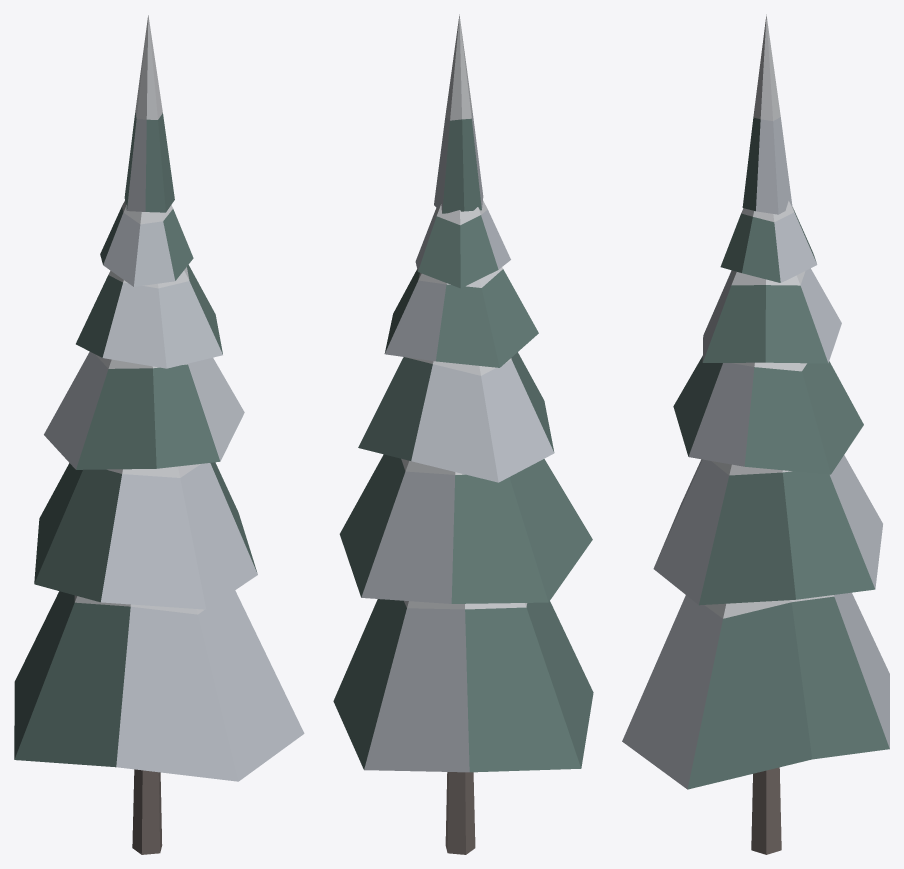
Rendered from kuusi_3.glb.
3 views of the same model, side by side, from view 1: azimuth 30°, elevation 25°; view 2: azimuth 150°, elevation 25°; view 3: azimuth 270°, elevation 25° (orthographic).
Parts seen in each view (by area): view 1: kuusi_3; view 2: kuusi_3; view 3: kuusi_3.
Part boxes in pixels (x1,y1,x2,y2): kuusi_3: [14, 15, 304, 854]; kuusi_3: [333, 14, 593, 854]; kuusi_3: [622, 14, 889, 854].
Bounding box in the file's own units: 3.99 × 13 × 3.78.
